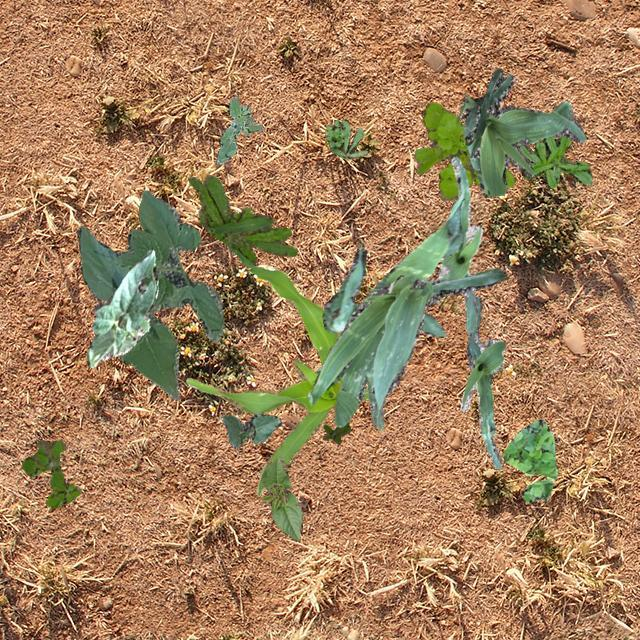crop: (185, 264, 368, 494), (306, 268, 504, 430), (77, 190, 222, 398), (321, 196, 462, 336), (458, 67, 586, 196), (86, 250, 158, 366), (438, 156, 482, 332), (460, 296, 504, 468), (260, 456, 302, 540), (220, 412, 280, 448)
weed: (186, 174, 296, 266), (414, 102, 514, 200), (502, 418, 556, 502), (20, 438, 80, 508), (518, 134, 592, 187), (215, 95, 262, 163), (324, 118, 366, 158), (322, 421, 350, 443)
